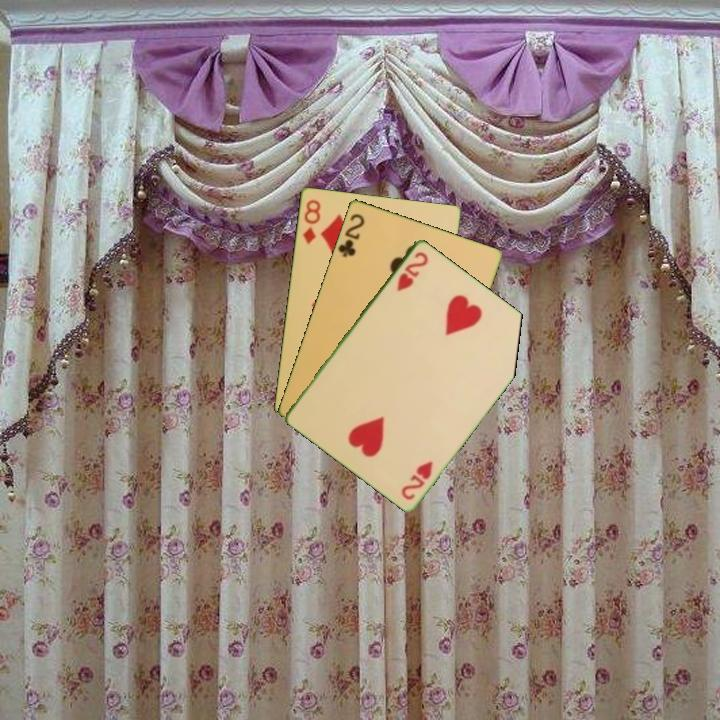2c: (334, 209, 367, 260)
2h: (393, 248, 431, 294), (398, 457, 436, 503)
8d: (299, 196, 323, 247)
